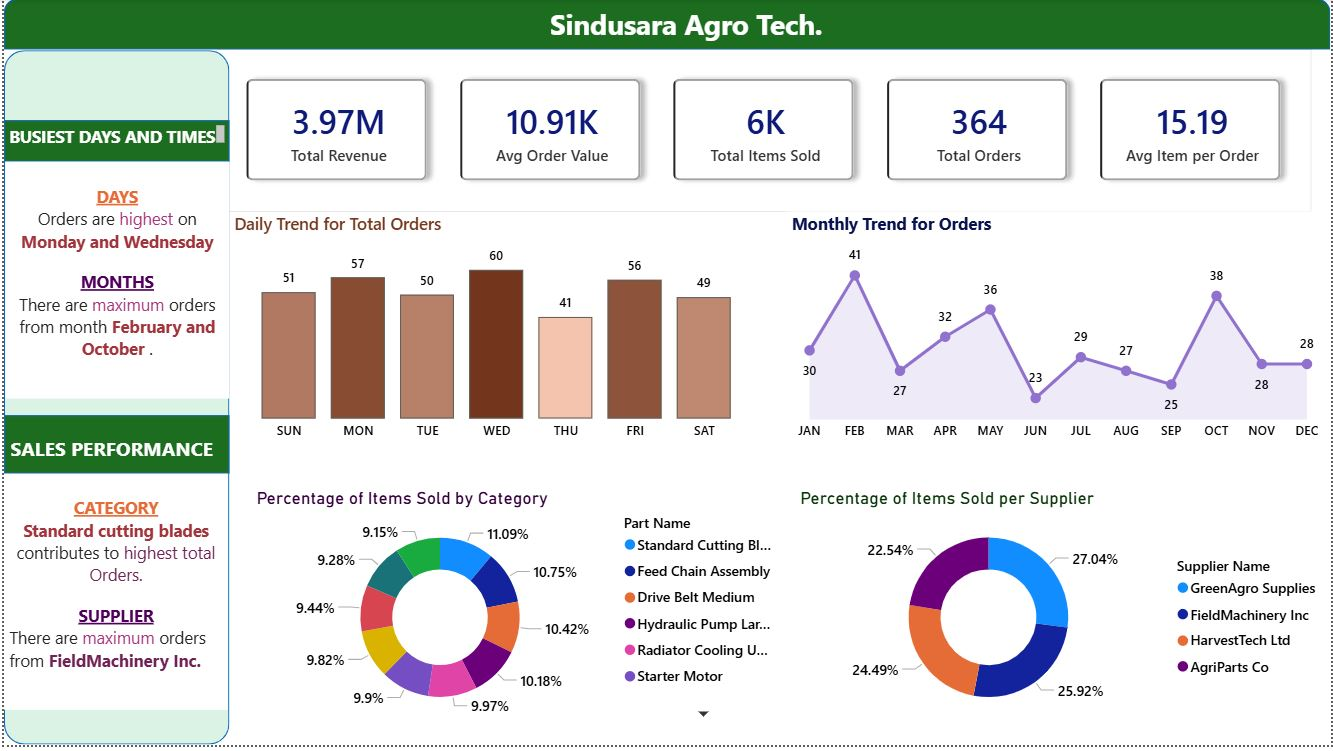

What the dashboard file says about the page in this screenshot:
{"tool":"powerbi","page":{"name":"Page 1","canvas":[1280,720],"ordinal":0},"visuals":[{"type":"cardVisual","fields":{"Data":["harvesting_machine_spare_parts_erp_dataset_v2.Total Revenue","harvesting_machine_spare_parts_erp_dataset_v2.Avg Order Value","harvesting_machine_spare_parts_erp_dataset_v2.Total Items Sold","harvesting_machine_spare_parts_erp_dataset_v2.Total Orders","harvesting_machine_spare_parts_erp_dataset_v2.Avg Item per Order"]},"box":[205,48.8,1057.5,156.2],"z":0},{"type":"columnChart","title":"Daily Trend for Total Orders","fields":{"Category":["harvesting_machine_spare_parts_erp_dataset_v2.DAY"],"Y":["harvesting_machine_spare_parts_erp_dataset_v2.Total Orders"]},"box":[217.5,205,517.5,230],"z":1000},{"type":"shape","title":"fh","box":[0,0,1280,48.8],"z":2000},{"type":"textbox","box":[476.2,1.2,363.8,48.8],"z":3000},{"type":"areaChart","title":"Monthly Trend for Orders","fields":{"Y":["harvesting_machine_spare_parts_erp_dataset_v2.Total Orders"],"Category":["harvesting_machine_spare_parts_erp_dataset_v2.Month Short"]},"box":[755,205,525,230],"z":4000},{"type":"donutChart","title":"Percentage of Items Sold by Category","fields":{"Y":["harvesting_machine_spare_parts_erp_dataset_v2.Total Items Sold"],"Category":["harvesting_machine_spare_parts_erp_dataset_v2.part_name"]},"box":[238.8,471.2,516.2,231.2],"z":5000},{"type":"donutChart","title":"Percentage of Items Sold per Supplier","fields":{"Y":["harvesting_machine_spare_parts_erp_dataset_v2.Total Items Sold"],"Category":["harvesting_machine_spare_parts_erp_dataset_v2.supplier_name"]},"box":[763.8,471.2,516.2,231.2],"z":6000},{"type":"shape","box":[0,50,217.5,670],"z":7000},{"type":"shape","box":[0,117.5,217.5,40],"z":8000},{"type":"textbox","box":[0,117.5,217.5,28.8],"z":9000},{"type":"textbox","box":[1.2,156.2,216.2,228.8],"z":10000},{"type":"textbox","box":[0,457.5,216.2,228.8],"z":11000},{"type":"shape","box":[0,401.2,217.5,56.2],"z":13000},{"type":"textbox","box":[1.2,416.2,281.2,55],"z":13001}]}

Visuals, with their boxes in screenshot pixels (x1, y1, x2, y2), scaled from the page's 1280x720 canvas onto the 1333x751 screenshot:
cardVisual - harvesting_machine_spare_parts_erp_dataset_v2.Total Revenue x harvesting_machine_spare_parts_erp_dataset_v2.Avg Order Value: 213:51:1315:214
"Daily Trend for Total Orders" columnChart: 227:214:765:454
"fh" shape: 0:0:1332:51
textbox: 496:1:875:52
"Monthly Trend for Orders" areaChart: 786:214:1332:454
"Percentage of Items Sold by Category" donutChart: 249:491:786:733
"Percentage of Items Sold per Supplier" donutChart: 795:491:1332:733
shape: 0:52:227:750
shape: 0:123:227:164
textbox: 0:123:227:153
textbox: 1:163:226:402
textbox: 0:477:225:716
shape: 0:418:227:477
textbox: 1:434:294:491
